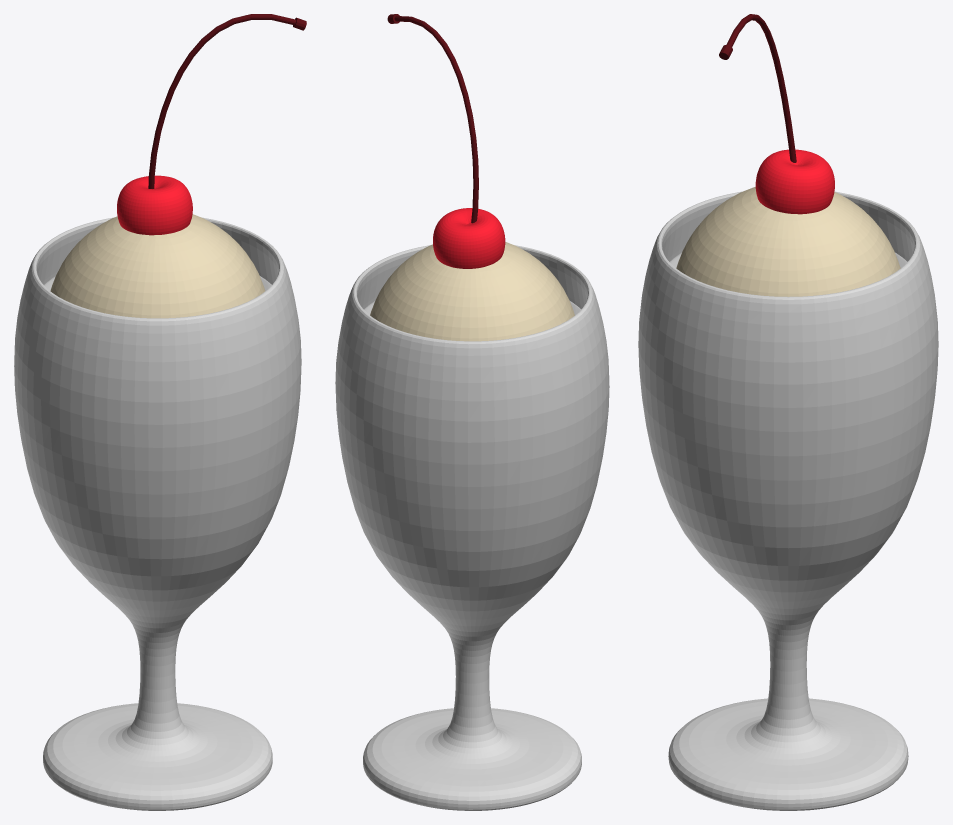
The model's file is juiceColored.glb.
3 views of the same model, side by side, from view 1: azimuth 30°, elevation 25°; view 2: azimuth 150°, elevation 25°; view 3: azimuth 270°, elevation 25° (orthographic). The views are drawn at different scales.
Parts seen in each view (by area): view 1: 奶球; view 2: 奶球; view 3: 奶球.
Boxes of the visible parts, bbox=[...] form: 奶球: bbox=[14, 14, 306, 810]; 奶球: bbox=[335, 14, 609, 810]; 奶球: bbox=[638, 14, 938, 810].
Bounding box in the file's own units: 0.0366 × 0.1052 × 0.0366.
